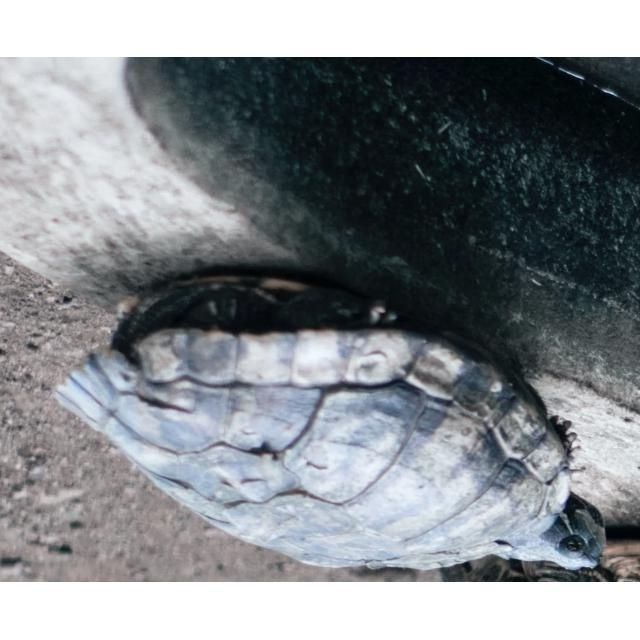turtle: (53, 272, 607, 573)
